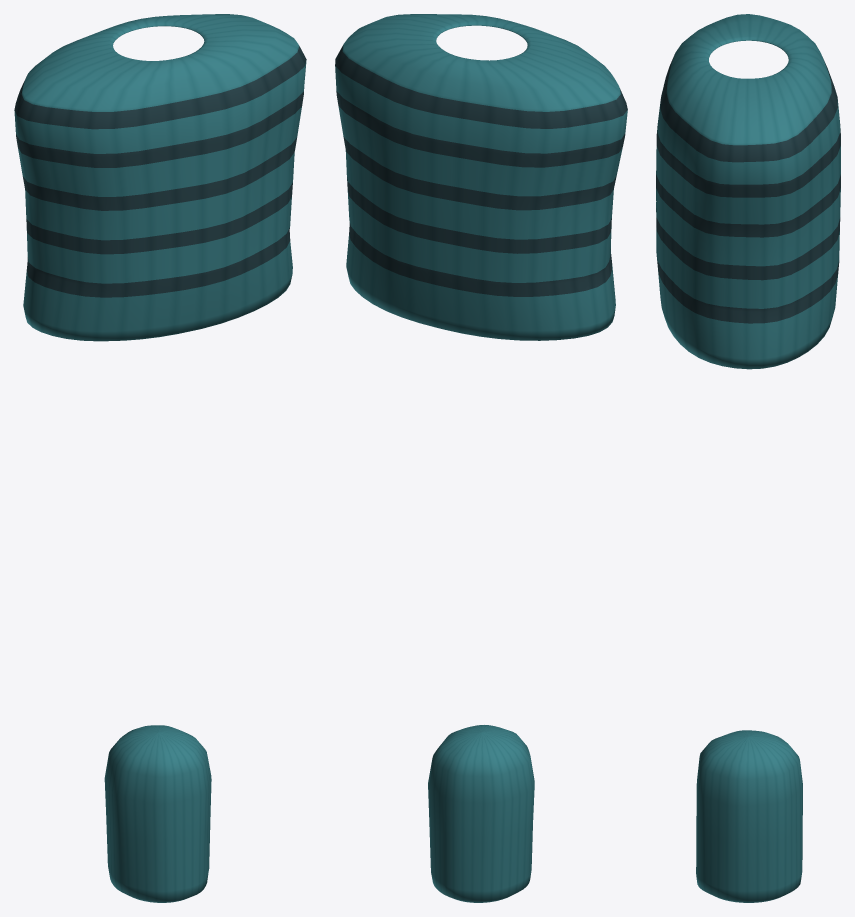
File: reference_striped_tee.gltf
3 views of the same model, side by side, from view 1: azimuth 30°, elevation 25°; view 2: azimuth 150°, elevation 25°; view 3: azimuth 270°, elevation 25° (orthographic).
Parts seen in each view (by area): view 1: Torso, SleeveL; view 2: Torso, SleeveL; view 3: Torso, SleeveL.
Boxes of the visible parts, left/top/right/bottom form: Torso: left=14, top=14, right=306, bottom=341; SleeveL: left=104, top=725, right=211, bottom=902; Torso: left=335, top=14, right=627, bottom=340; SleeveL: left=428, top=725, right=534, bottom=902; Torso: left=656, top=14, right=840, bottom=369; SleeveL: left=696, top=730, right=802, bottom=902.
Size of the model in its own units: 0.5273 by 1.53 by 0.3101.
Materials: 2 (2 with a texture image).
